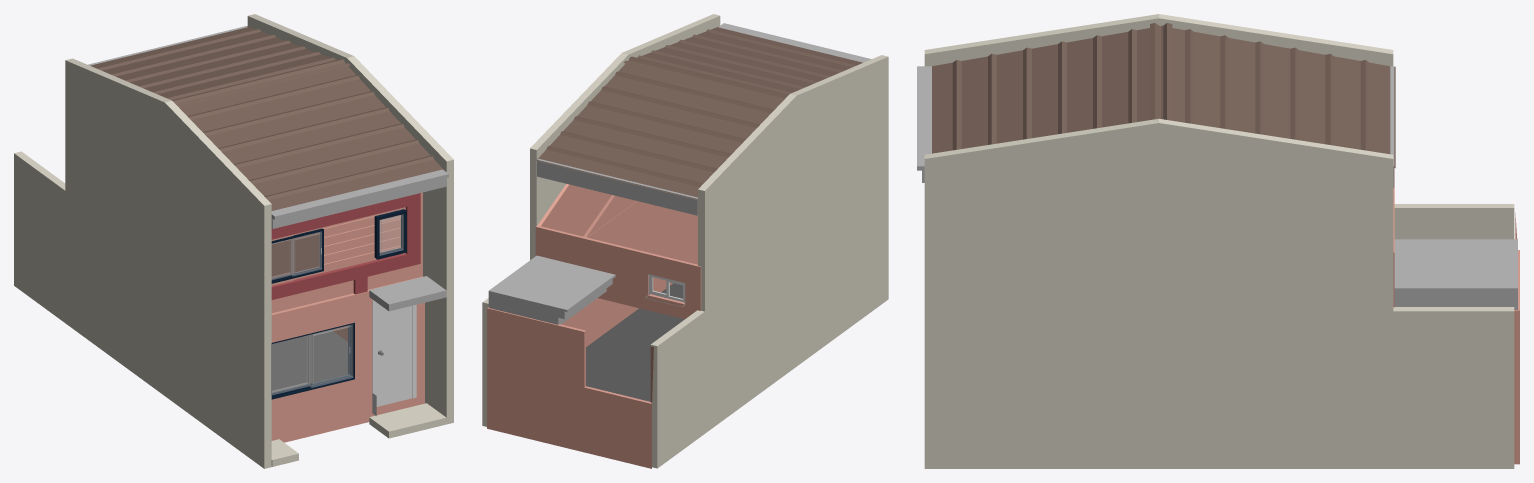
The model's file is modelH_medium.glb.
The picture shows the model from 3 angles, left to right: view 1: azimuth 30°, elevation 25°; view 2: azimuth 150°, elevation 25°; view 3: azimuth 270°, elevation 25°; orthographic projection. The views are drawn at different scales.
Parts seen in each view (by area): view 1: Cube.003, Plane, Wall.001, wall.003, Cube.007, roof, Floor.001, Door.010, Window.L.009, Window.R.007, Cube.001, Cube.006 (+8 smaller); view 2: Cube.003, Plane, Wall.001, wall.003, Roof.001, Floor.001, roof; view 3: Cube.003, Plane, Roof.001, roof, Wall.001.
Boxes of the visible parts, <box> form: Cube.003: <box>14,14,453,468</box>; Plane: <box>90,26,444,210</box>; Wall.001: <box>271,232,424,442</box>; wall.003: <box>271,192,422,312</box>; Cube.007: <box>271,193,420,299</box>; roof: <box>88,26,448,228</box>; Floor.001: <box>272,330,348,392</box>; Door.010: <box>376,303,412,406</box>; Window.L.009: <box>309,324,353,387</box>; Window.R.007: <box>272,335,310,394</box>; Cube.001: <box>369,403,446,438</box>; Cube.006: <box>369,276,446,311</box>; Cube.003: <box>482,14,888,468</box>; Plane: <box>535,27,862,200</box>; Wall.001: <box>487,201,697,468</box>; wall.003: <box>535,184,701,319</box>; Roof.001: <box>488,255,615,324</box>; Floor.001: <box>586,283,684,401</box>; roof: <box>537,23,871,215</box>; Cube.003: <box>924,14,1514,468</box>; Plane: <box>932,23,1395,168</box>; Roof.001: <box>1394,239,1517,309</box>; roof: <box>917,66,1394,187</box>; Wall.001: <box>1514,213,1519,464</box>.
Bounding box in the file's own units: 3.86 × 5.71 × 9.02.
